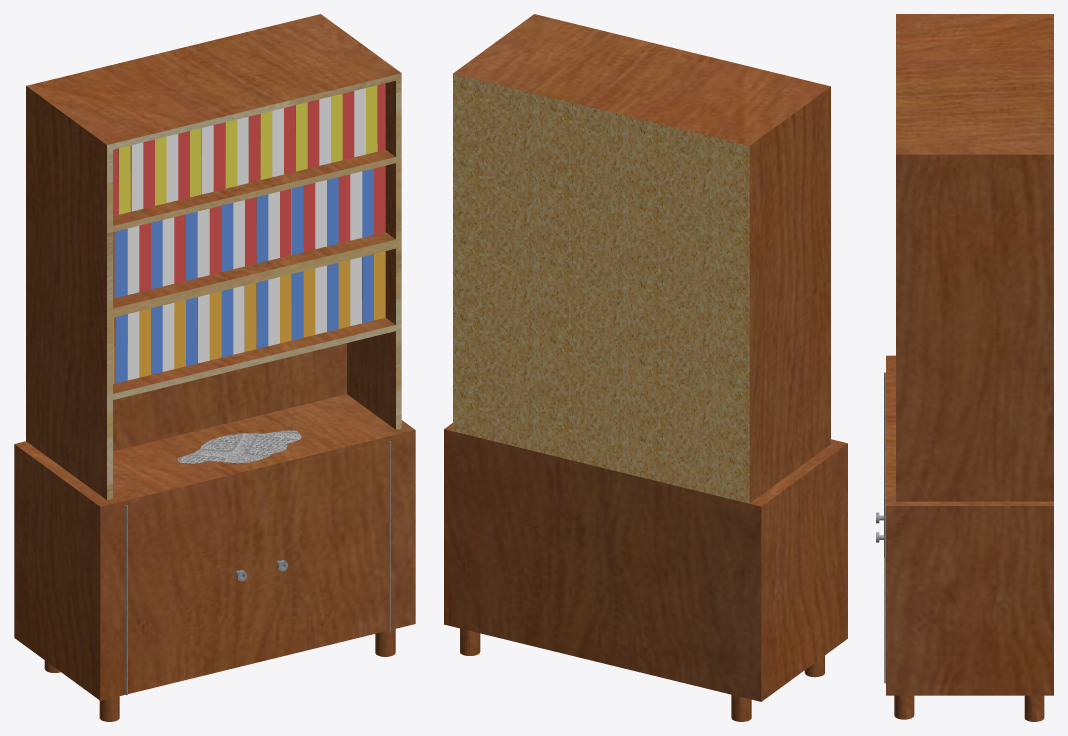
The model's file is kkitaplık.dae.
3 views of the same model, side by side, from view 1: azimuth 30°, elevation 25°; view 2: azimuth 150°, elevation 25°; view 3: azimuth 270°, elevation 25° (orthographic). The views are drawn at different scales.
Visible parts, largest first — view 1: Component_4 (×65); view 2: Component_4 (×2); view 3: Component_4 (×4).
Boxes of the visible parts, x1,y1,x2,y2 form: Component_4 (×65): (14,14,415,700); Component_4 (×2): (444,14,847,701); Component_4 (×4): (884,14,1053,721).
Bounding box in the file's own units: 42.52 × 21.26 × 74.75.
Materials: 10 (5 with a texture image).
